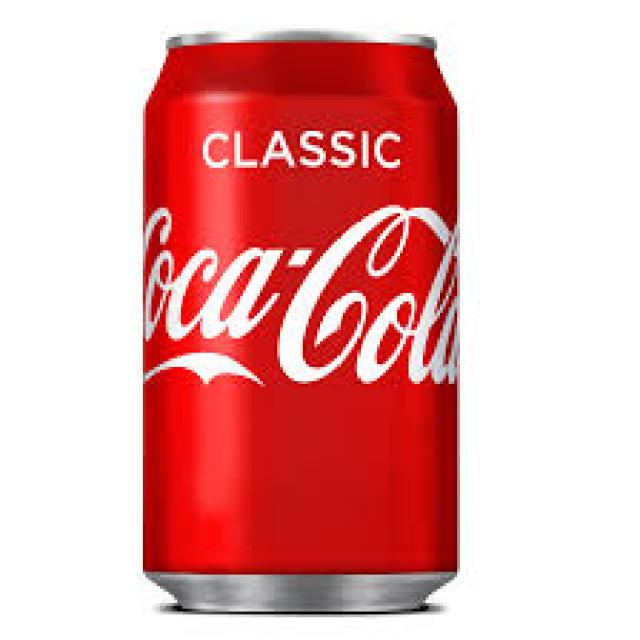aluminum_can: (146, 34, 460, 612)
